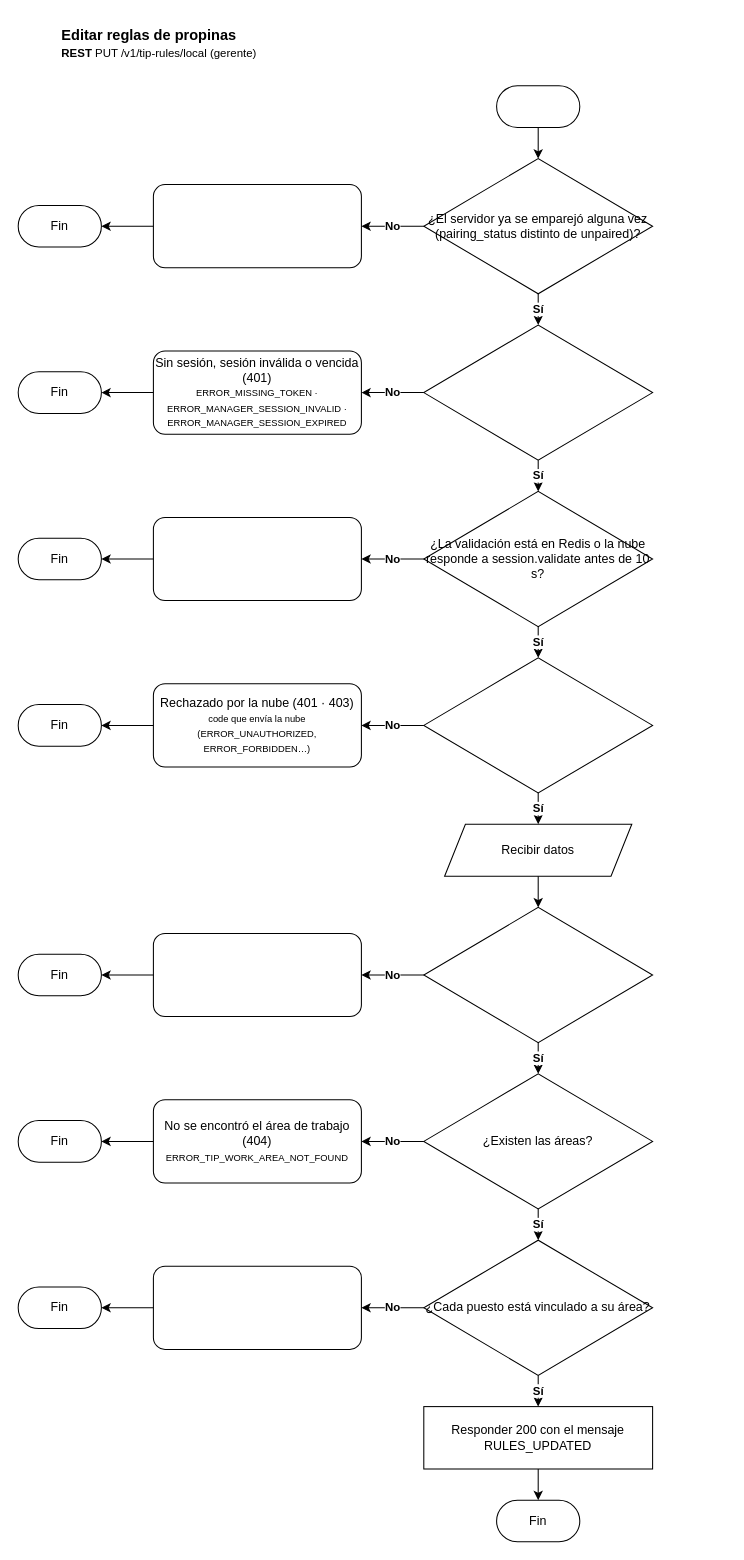
This 744x1560 diagram has some shape labels left out. The shapes that lost their labels are listed below. From the top down, each one's box as (x1, y1, x2, y2) in pixels, then its label:
(496, 85, 580, 127): Inicio
(152, 184, 361, 268): Servidor sin emparejar (409) ERROR_SERVER_NOT_PAIRED
(423, 324, 653, 460): ¿Trae una sesión de gerente válida (Bearer mss_..., sin 30 min de inactividad)?
(152, 516, 361, 601): La nube no responde (503) ERROR_CLOUD_UNAVAILABLE · ERROR_SERVER_UNLINKED
(423, 657, 653, 793): ¿La nube acepta la sesión del gerente con este servidor?
(152, 932, 361, 1017): Datos inválidos (400) ERROR_BAD_REQUEST
(423, 906, 653, 1043): ¿Los datos son válidos?
(152, 1265, 361, 1349): El puesto no está vinculado a esa área (409) ERROR_TIP_POSITION_NOT_LINKED
